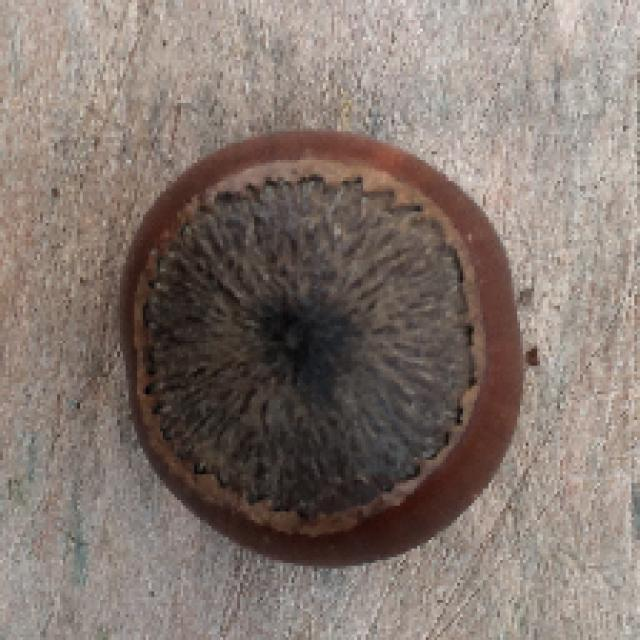damagedHazelnut: (98, 124, 529, 559)
